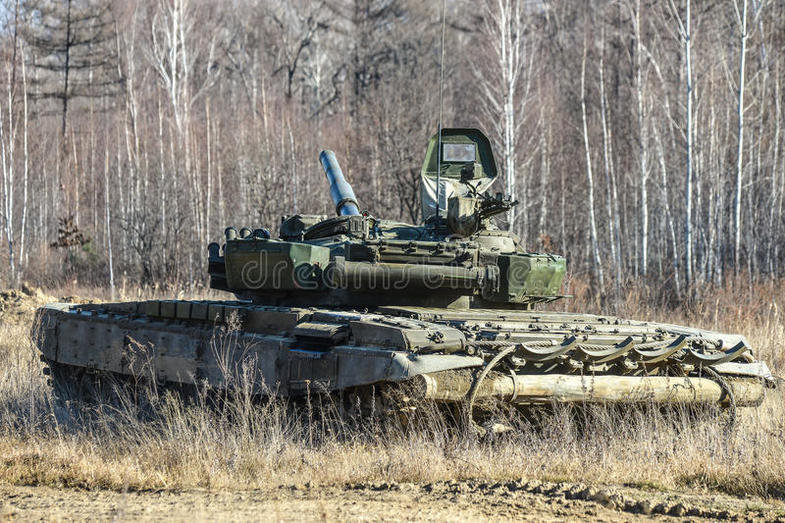t72: (32, 158, 767, 429)
